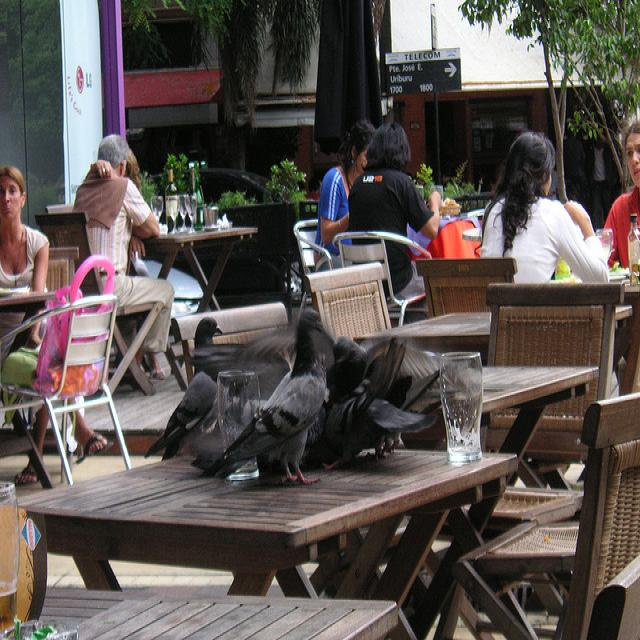Vehicle: (158, 172, 292, 204)
